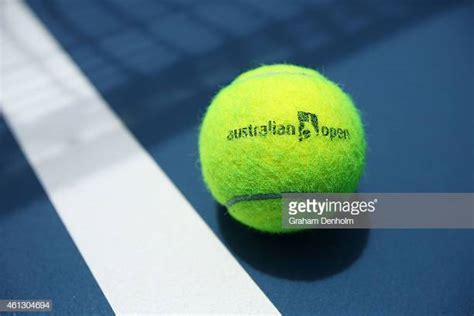tennis_ball: (197, 63, 368, 235)
